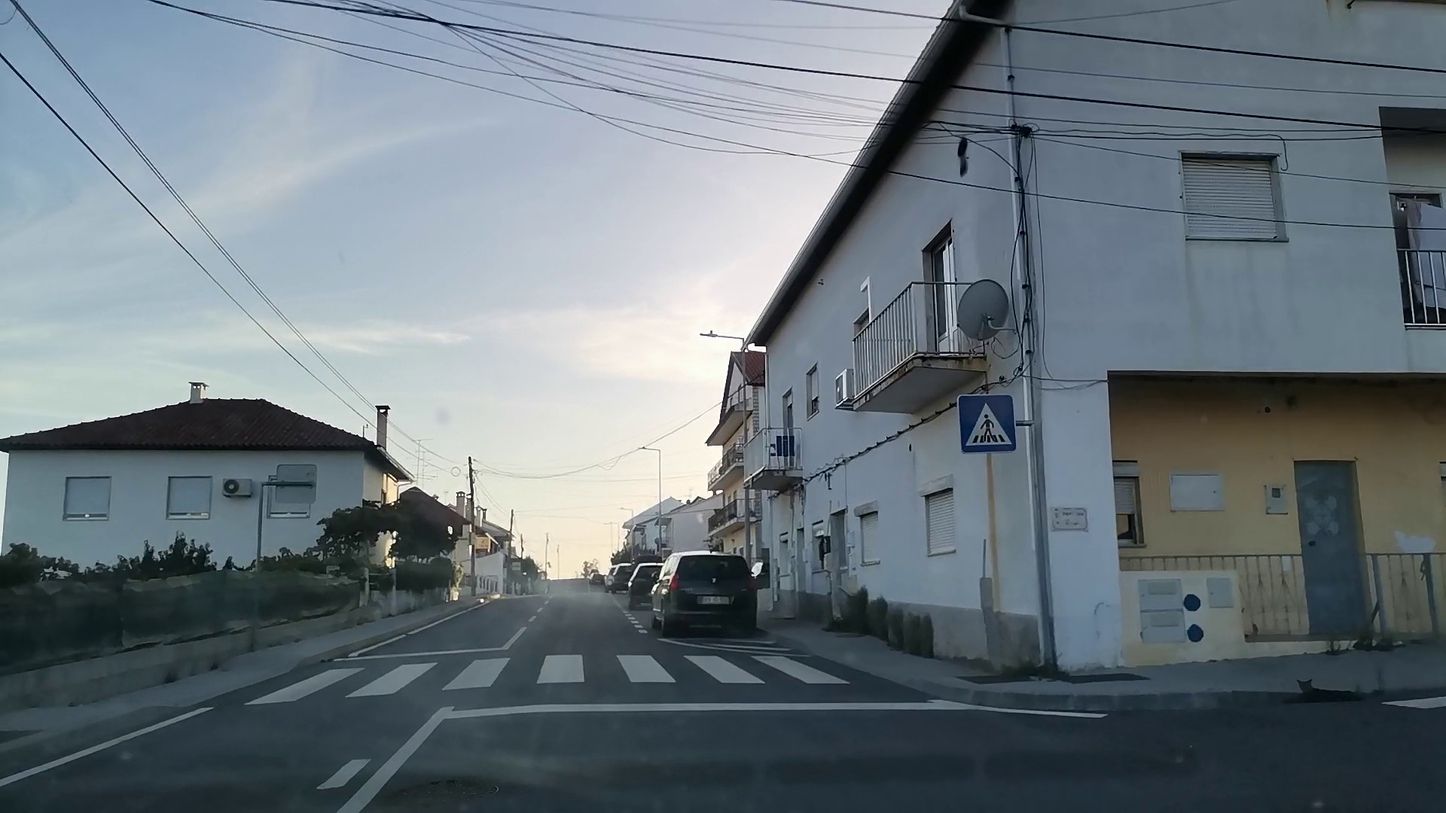Stairs: (249, 652, 849, 704)
